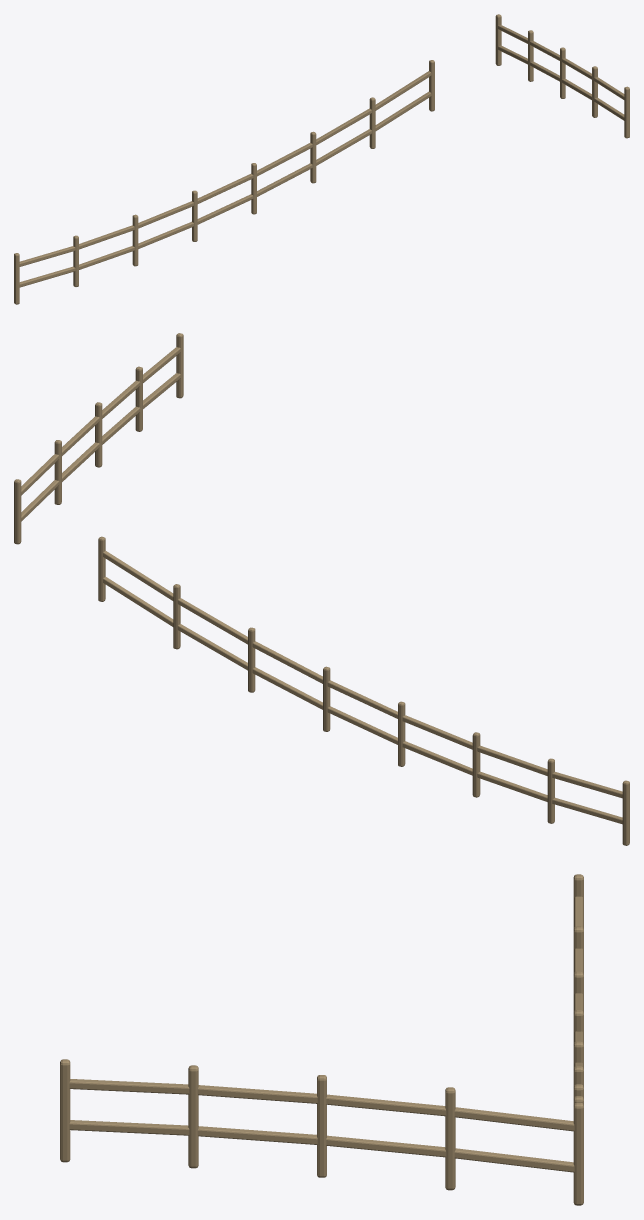
Rendered from SM_Fences.fbx.
The picture shows the model from 3 angles, top to bottom: view 1: azimuth 30°, elevation 25°; view 2: azimuth 150°, elevation 25°; view 3: azimuth 270°, elevation 25°; orthographic projection. The views are drawn at different scales.
Parts seen in each view (by area): view 1: SM_Fences; view 2: SM_Fences; view 3: SM_Fences.
Part boxes in pixels (x1=…): SM_Fences: x1=14, y1=14, x2=629, y2=304; SM_Fences: x1=14, y1=333, x2=629, y2=845; SM_Fences: x1=60, y1=874, x2=583, y2=1205.
Bounding box in the file's own units: 1312 × 612 × 498.
